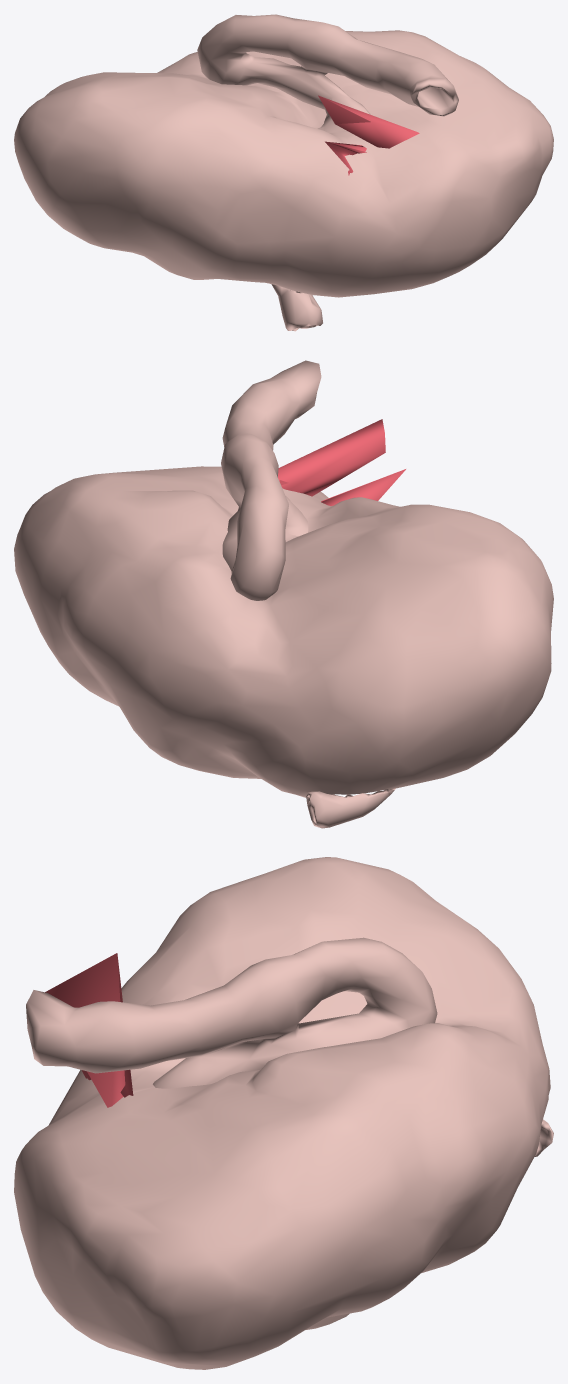
The model's file is NIH_M_Lymph_Node.glb.
The picture shows the model from 3 angles, top to bottom: view 1: azimuth 30°, elevation 25°; view 2: azimuth 150°, elevation 25°; view 3: azimuth 270°, elevation 25°; orthographic projection. The views are drawn at different scales.
Parts seen in each view (by area): view 1: Yao_capsule_of_lymph_node, Yao_efferent_lymph_node, Yao_blood_vasculature, Yao_afferent_lymphatic_vessel; view 2: Yao_capsule_of_lymph_node, Yao_efferent_lymph_node, Yao_blood_vasculature, Yao_afferent_lymphatic_vessel; view 3: Yao_capsule_of_lymph_node, Yao_efferent_lymph_node, Yao_blood_vasculature.
Part boxes in pixels (left/top/right/bottom): Yao_capsule_of_lymph_node: left=14, top=30, right=553, bottom=297; Yao_efferent_lymph_node: left=197, top=14, right=458, bottom=132; Yao_blood_vasculature: left=318, top=95, right=419, bottom=175; Yao_afferent_lymphatic_vessel: left=271, top=284, right=322, bottom=331; Yao_capsule_of_lymph_node: left=14, top=466, right=553, bottom=797; Yao_efferent_lymph_node: left=221, top=360, right=321, bottom=600; Yao_blood_vasculature: left=278, top=419, right=405, bottom=505; Yao_afferent_lymphatic_vessel: left=306, top=788, right=395, bottom=828; Yao_capsule_of_lymph_node: left=14, top=857, right=550, bottom=1369; Yao_efferent_lymph_node: left=26, top=937, right=437, bottom=1088; Yao_blood_vasculature: left=45, top=953, right=133, bottom=1107.
Size of the model in its own units: 0.0183 by 0.0107 by 0.013.
